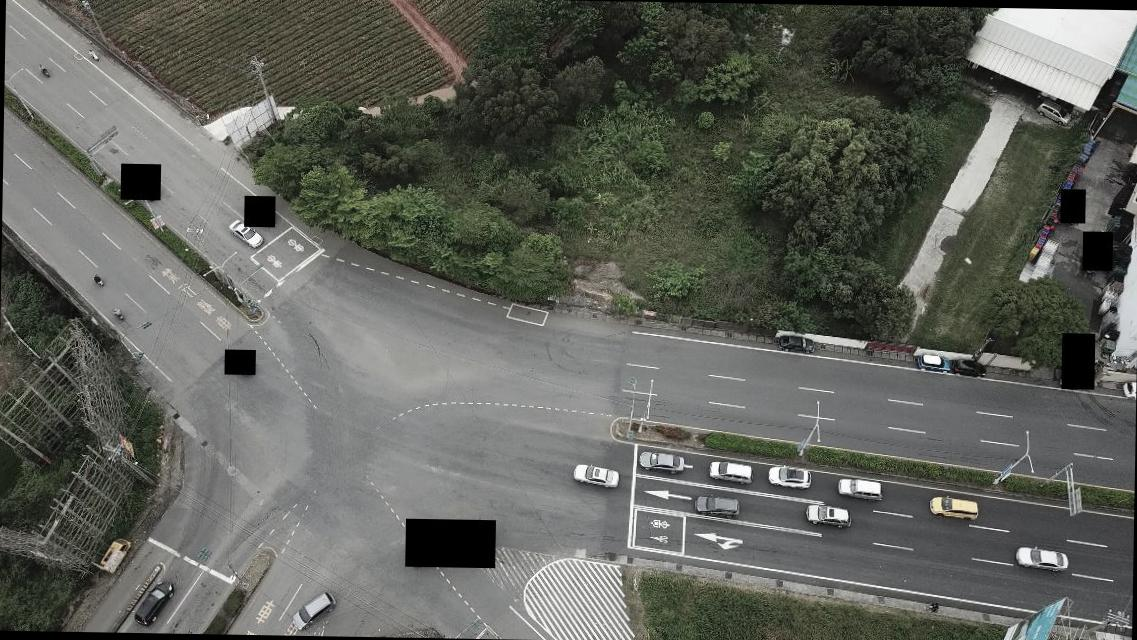vehicle: (132, 578, 174, 626), (290, 590, 336, 630), (806, 502, 852, 530), (571, 463, 620, 489), (930, 494, 978, 520), (1016, 548, 1068, 572), (693, 493, 740, 518), (707, 458, 752, 484), (638, 450, 686, 474), (100, 534, 132, 570), (837, 476, 881, 500), (229, 218, 264, 248), (767, 466, 812, 488), (776, 334, 815, 354), (952, 358, 986, 379), (916, 353, 950, 372), (1121, 380, 1135, 400)
